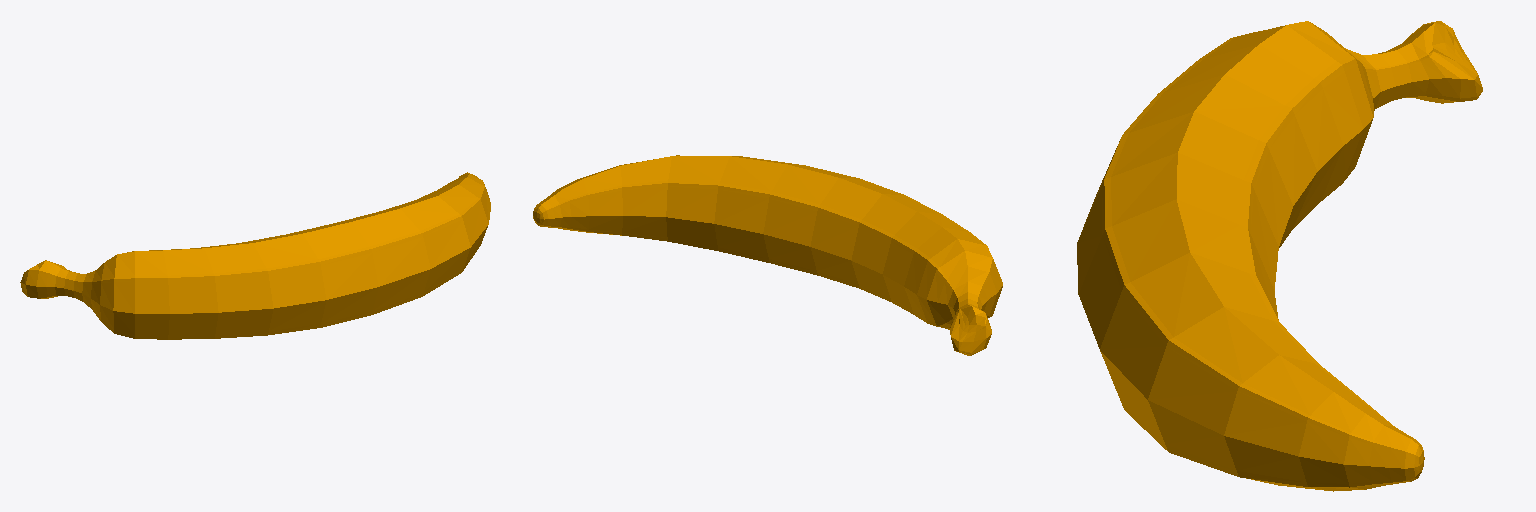
robot.urdf — apple:
<?xml version="0.0" ?>
<robot name="apple">
  <link name="baseLink">
    <contact>
      <lateral_friction value="1.0"/>
      <rolling_friction value="0.0"/>
      <contact_cfm value="0.0"/>
      <contact_erp value="1.0"/>
    </contact>
    <inertial>
      <origin rpy="0 0 0" xyz="0.0 0.0 0.02"/>
       <mass value=".1"/>
       <inertia ixx="1" ixy="0" ixz="0" iyy="1" iyz="0" izz="1"/>
    </inertial>
    <visual>
      <origin rpy="0 0 0" xyz="0 0 0.02"/>
      <geometry>
        <mesh filename="meshes/banana/banana.obj" scale="0.03 0.03 0.03"/>
      </geometry>

    </visual>
    <collision>
      <origin rpy="0 0 0" xyz="0 0 0.02"/>
      <geometry>
	 	<mesh filename="meshes/banana/banana.obj" scale="0.015 0.015 0.015"/>
      </geometry>
    </collision>
  </link>
</robot>

--- Render facts (derived) ---
3 views of the same robot in one strip: view 1: azimuth 30°, elevation 25°; view 2: azimuth 150°, elevation 25°; view 3: azimuth 270°, elevation 25° (orthographic).
Robot: apple — 1 links, 0 joints (none); root link baseLink; default pose: every joint at zero.
Visible links, largest first — view 1: baseLink; view 2: baseLink; view 3: baseLink.
Boxes of the visible links, box(x1,y1,x2,y2) form: baseLink: box(20, 172, 490, 339); baseLink: box(533, 155, 1002, 355); baseLink: box(1077, 21, 1482, 491).
Bounding box of the posed robot: 0.1861 × 0.075 × 0.0382 m (x, y, z).
1 mesh visuals loaded from 1 distinct referenced files (1 OBJ).